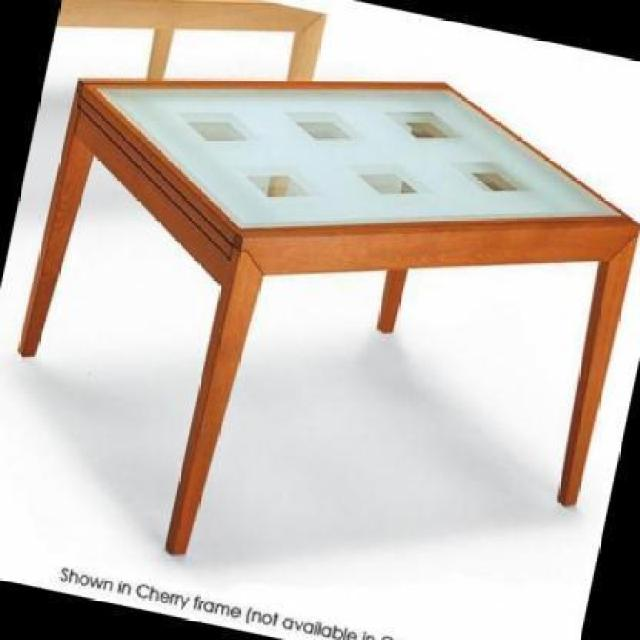tables: (16, 74, 638, 555)
